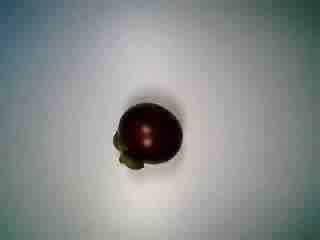mangosteen: (108, 98, 185, 173)
